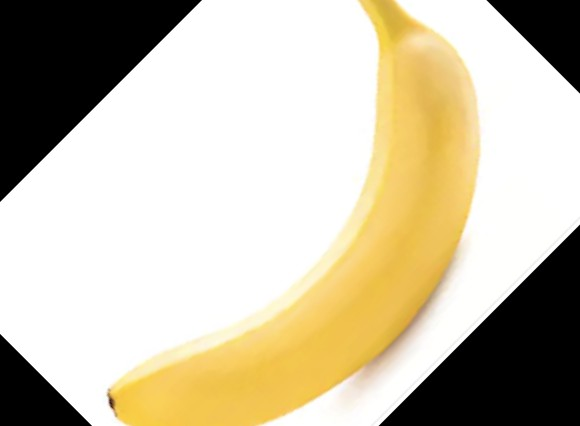fresh_banana: (106, 1, 479, 426)
